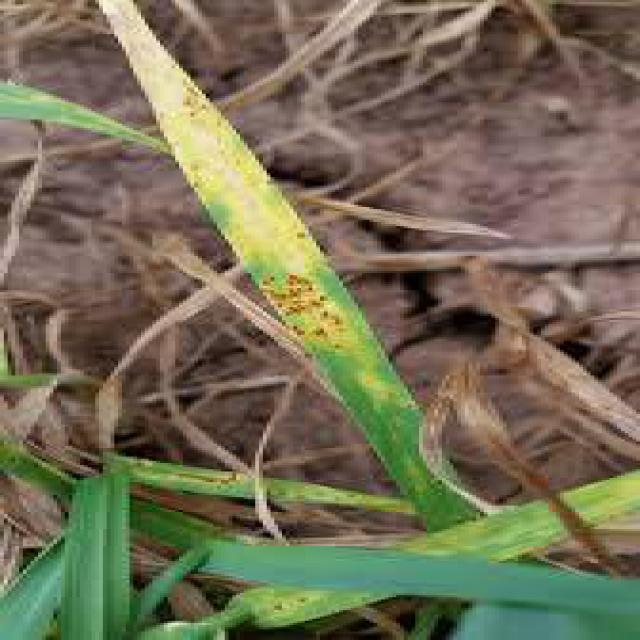wheat-stemrust: (240, 241, 397, 384)
